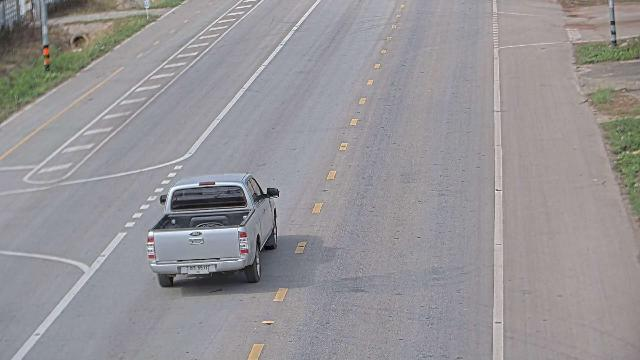pickup-truck: (145, 172, 280, 287)
